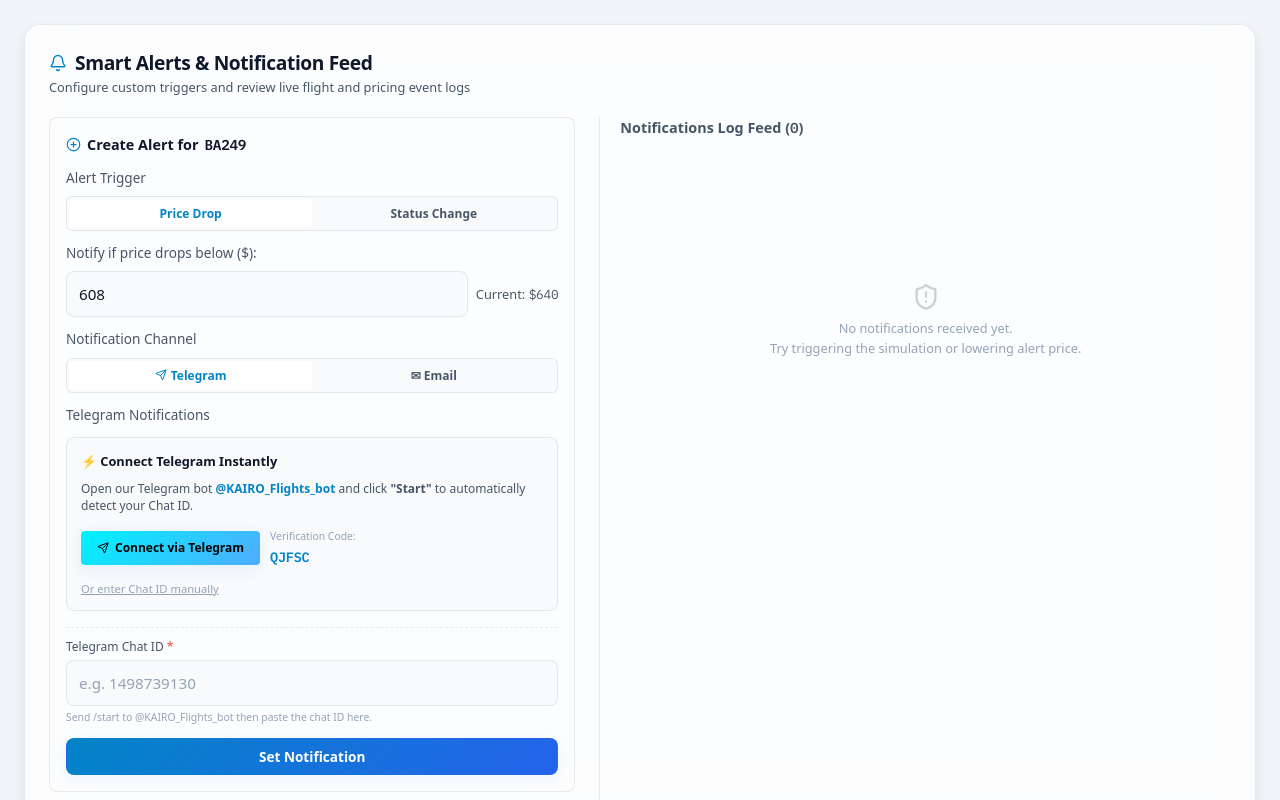
Test: AlertsManager channel target › refuses a price-drop alert when the selected channel has no address
Click the button "✉ Email".
click(434, 375)  # box [312,361,555,390]
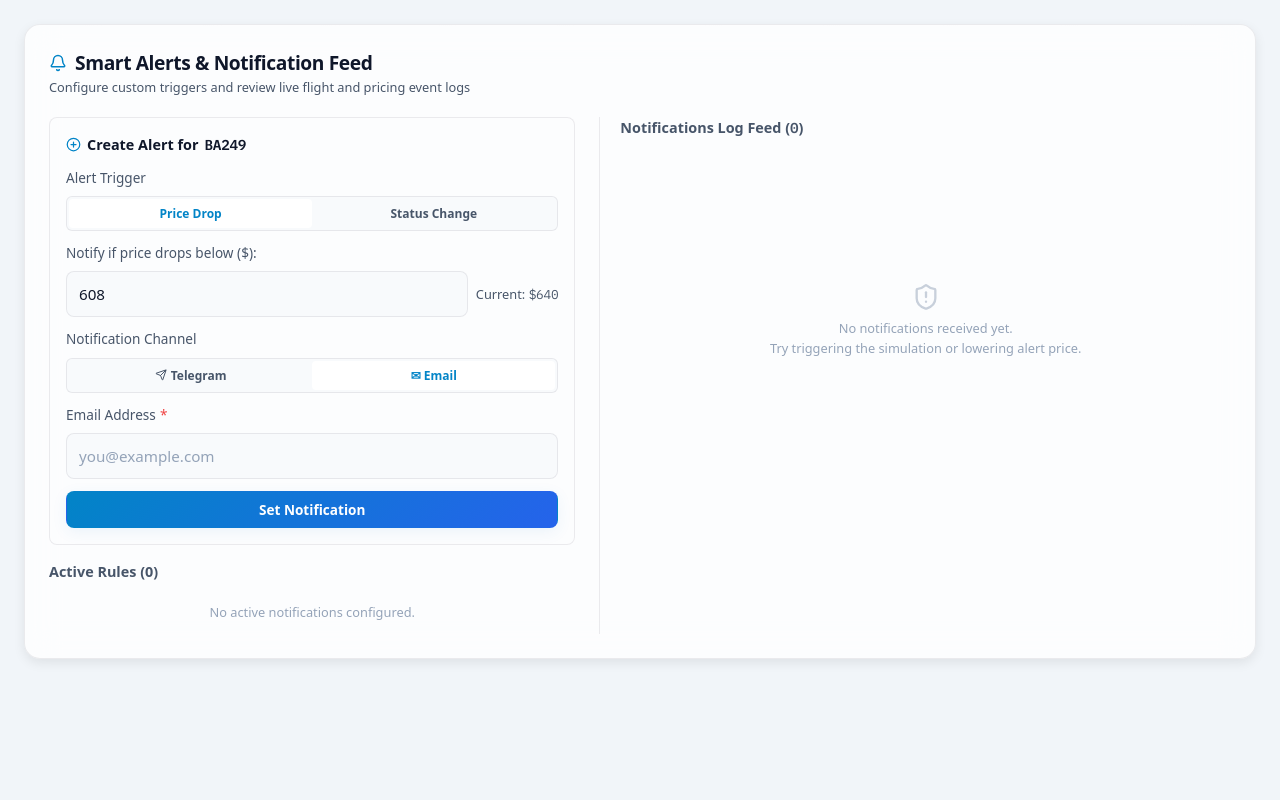
Submit the form, box [49,117,575,545]
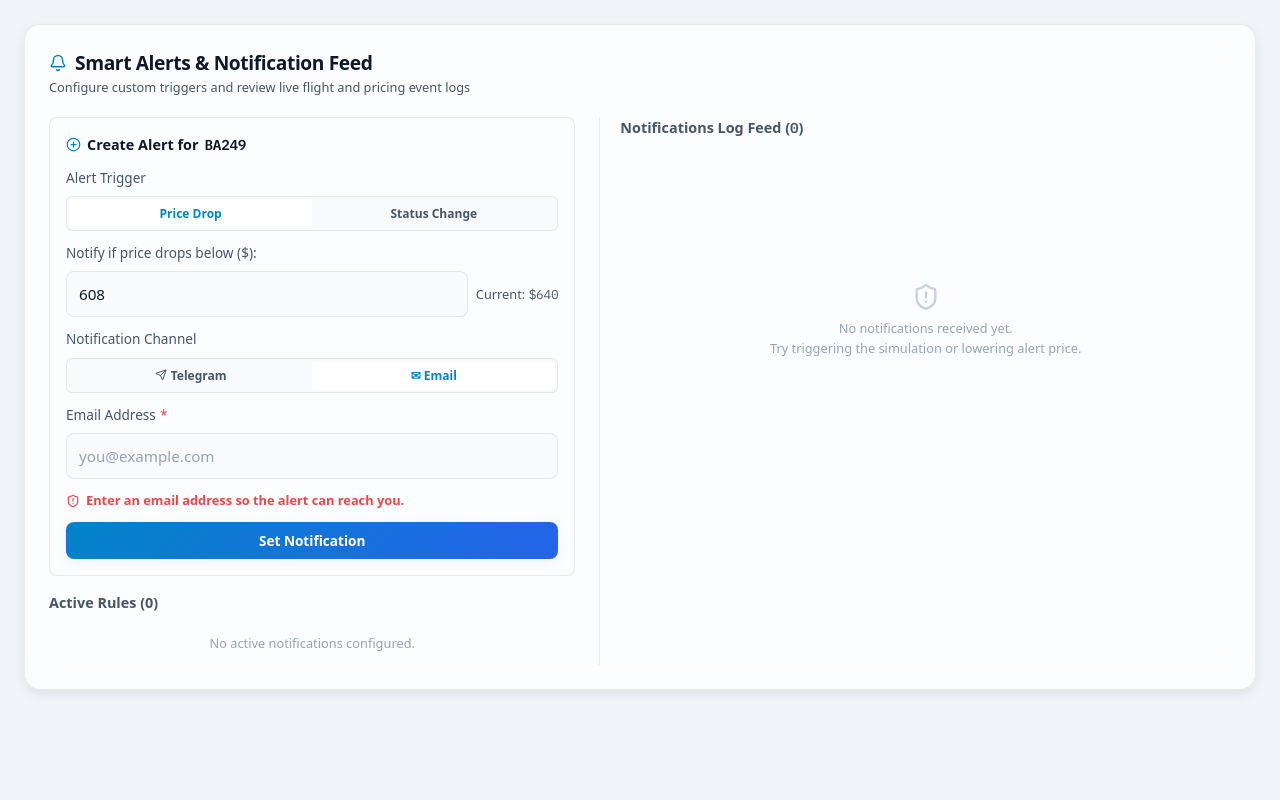
Expected: the text "Enter an email address so the alert can reach you." is shown, [66,491,404,509]
